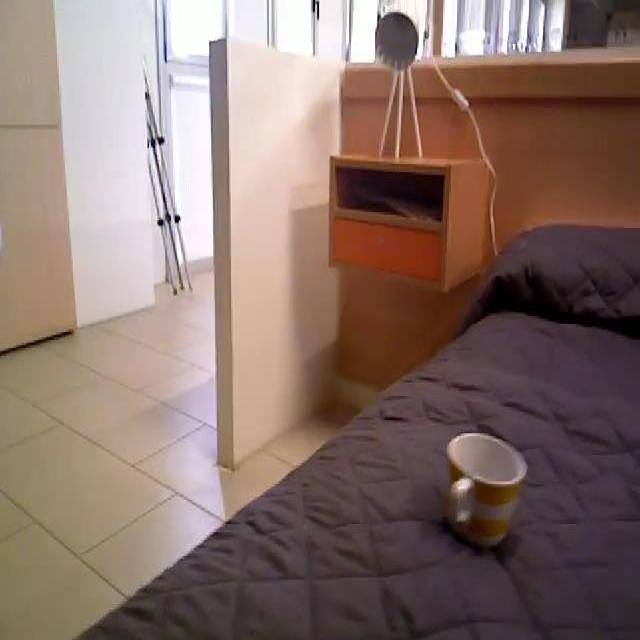cup: (444, 425, 532, 550)
